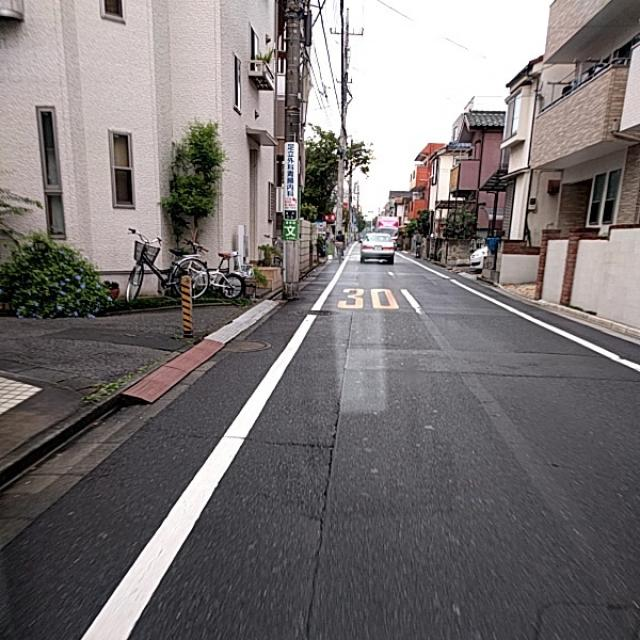pothole: (262, 422, 337, 534)
